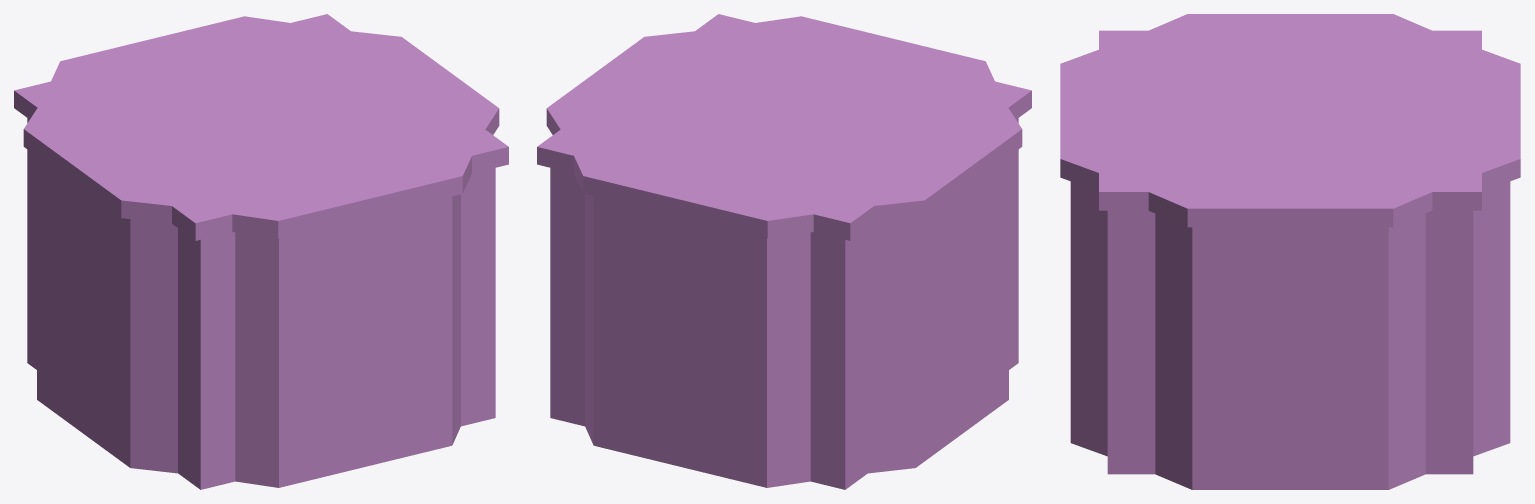
Rendered from Tower_Mid_B.fbx.
3 renders of one model, left to right at view 1: azimuth 30°, elevation 25°; view 2: azimuth 150°, elevation 25°; view 3: azimuth 270°, elevation 25°, orthographic. The views are drawn at different scales.
Visible parts, largest first — view 1: Tower_Mid_B; view 2: Tower_Mid_B; view 3: Tower_Mid_B.
Boxes of the visible parts, <box> form: Tower_Mid_B: <box>14,14,508,489</box>; Tower_Mid_B: <box>537,14,1031,489</box>; Tower_Mid_B: <box>1060,14,1520,489</box>.
Size of the model in its own units: 654 by 450 by 654.
